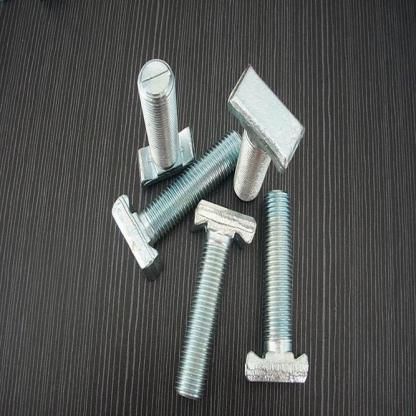FOD: (108, 132, 250, 278), (171, 198, 259, 397), (243, 185, 313, 389), (135, 59, 196, 191)
